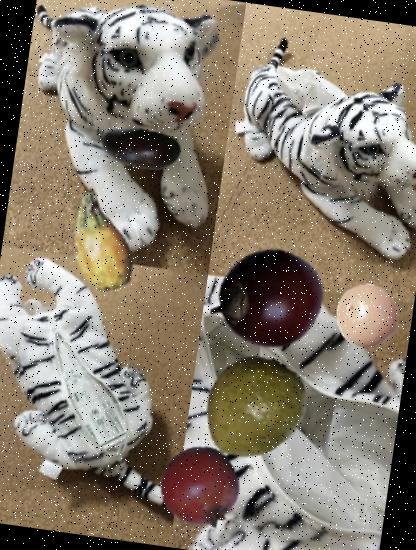Cactus: (38, 180, 160, 302)
Eggplant: (90, 100, 188, 196)
Grapefruit: (330, 279, 405, 354)
Guava: (192, 348, 314, 470)
Pomegranate: (154, 440, 250, 536)
Tamarillo: (206, 236, 330, 359)
